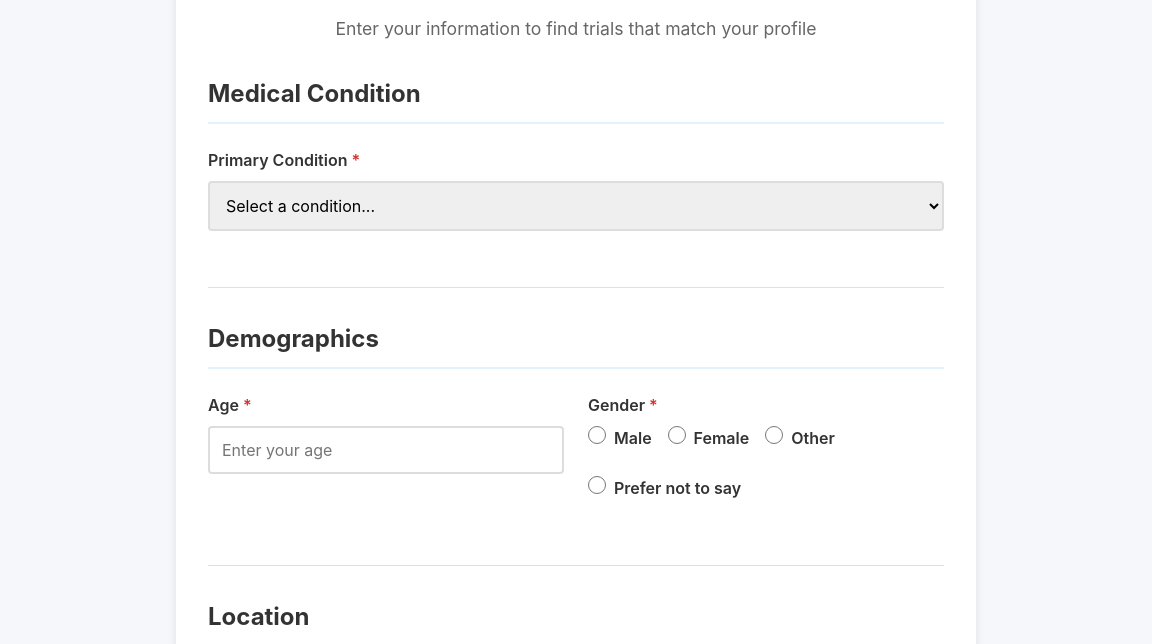
Test: PatientProfileForm › Form Validation - Custom Condition › shows error when "Other" is selected but custom condition is not provided
Select "Other (specify below)" in the dropdown labelled "Primary Condition *" at (576, 206), box 208,181 -> 944,231
(page scrolled)
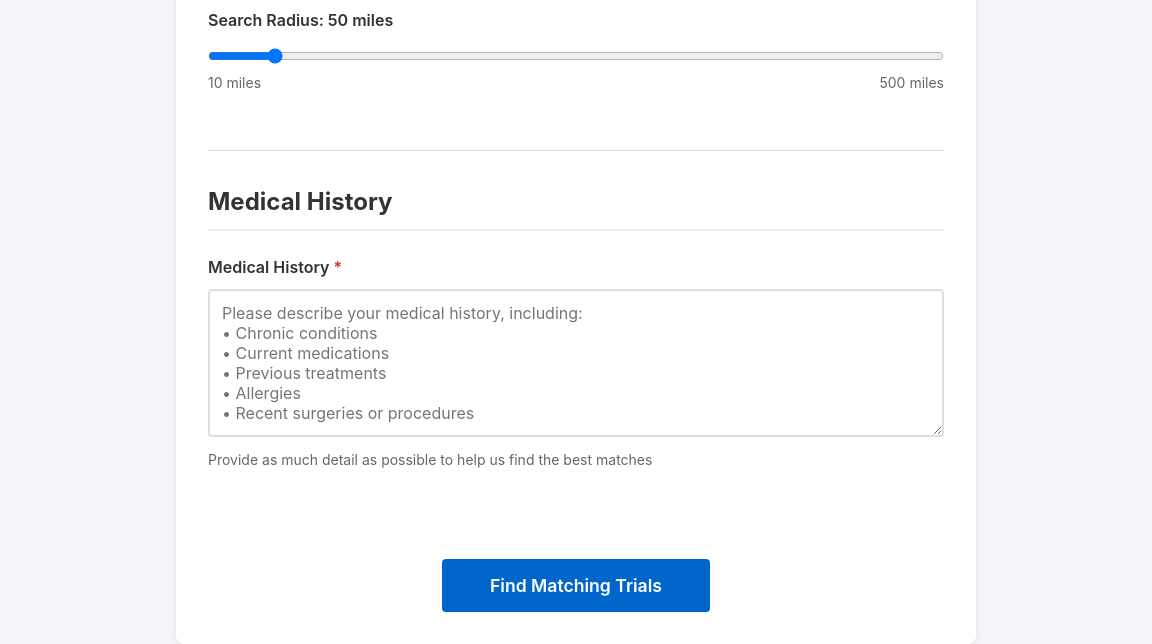
Click the button "Find Matching Trials" at (576, 586), box 442,559 -> 710,612
(page scrolled)
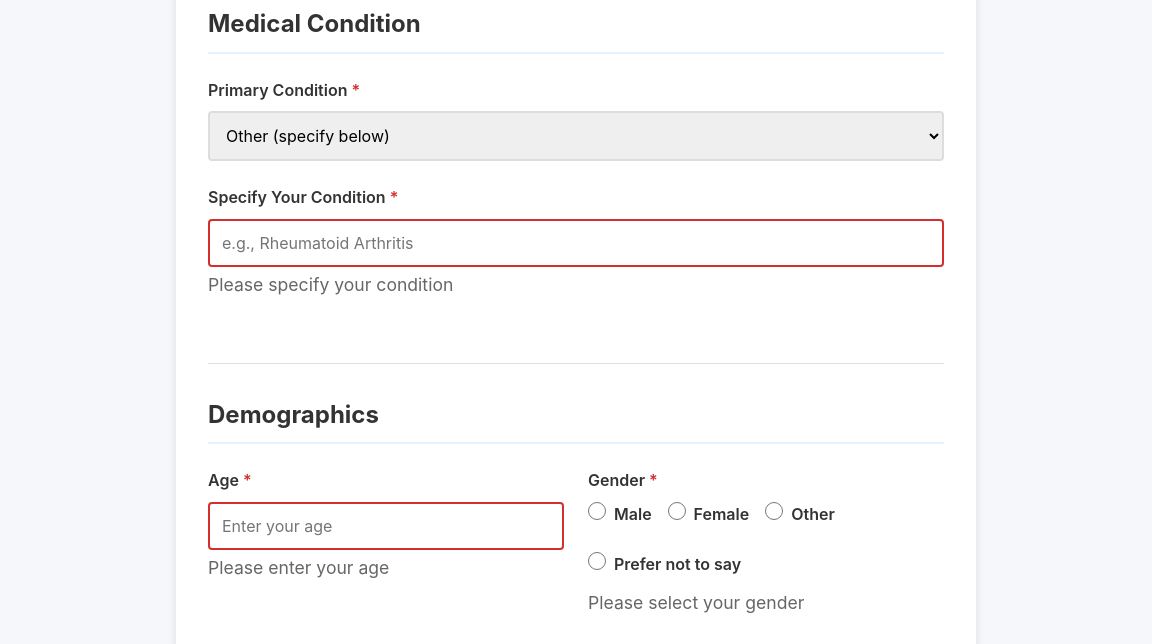
Check: the text "Please specify your condition" is shown, box 208,274 -> 453,295
